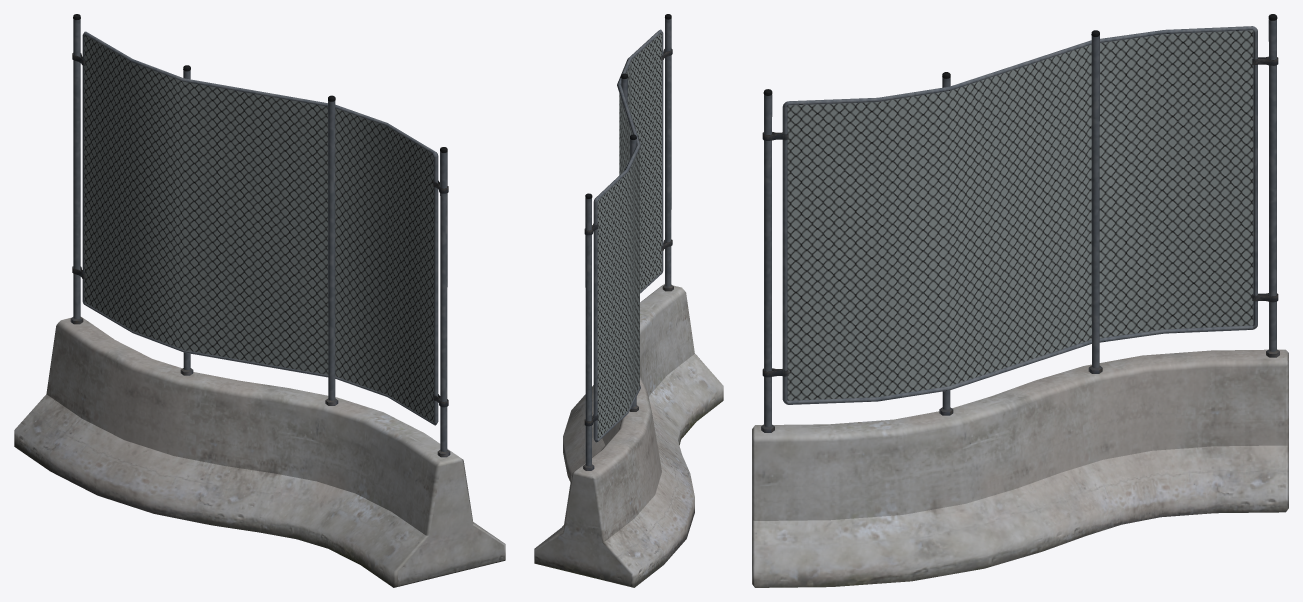
File: Fence_A_G.fbx
3 renders of one model, left to right at view 1: azimuth 30°, elevation 25°; view 2: azimuth 150°, elevation 25°; view 3: azimuth 270°, elevation 25°, orthographic. The views are drawn at different scales.
Visible parts, largest first — view 1: Fence_A_G_LOD0; view 2: Fence_A_G_LOD0; view 3: Fence_A_G_LOD0.
Boxes of the visible parts, box(x1,y1,x2,y2) form: Fence_A_G_LOD0: box(14, 14, 505, 587); Fence_A_G_LOD0: box(534, 14, 723, 587); Fence_A_G_LOD0: box(752, 14, 1288, 587).
Size of what is drawn, in the model's own units: 180 by 288 by 300.
